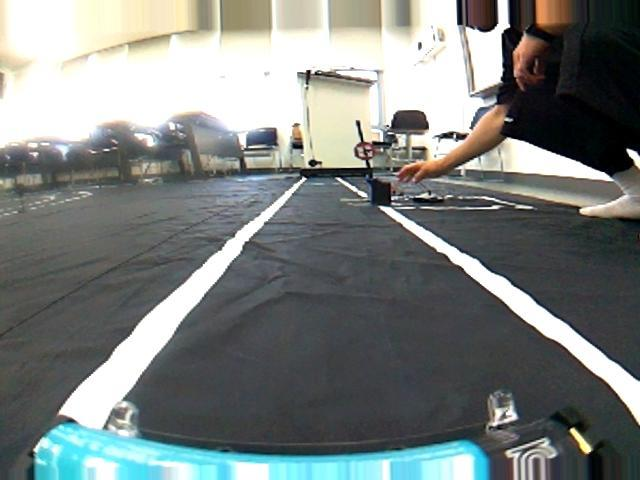sign_stop: (353, 141, 376, 160)
straight: (2, 206, 640, 480)
